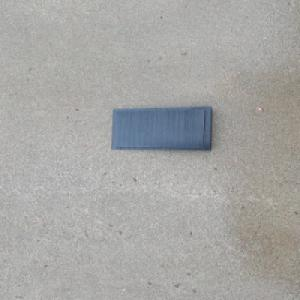PlasticPart: (108, 105, 214, 152)
